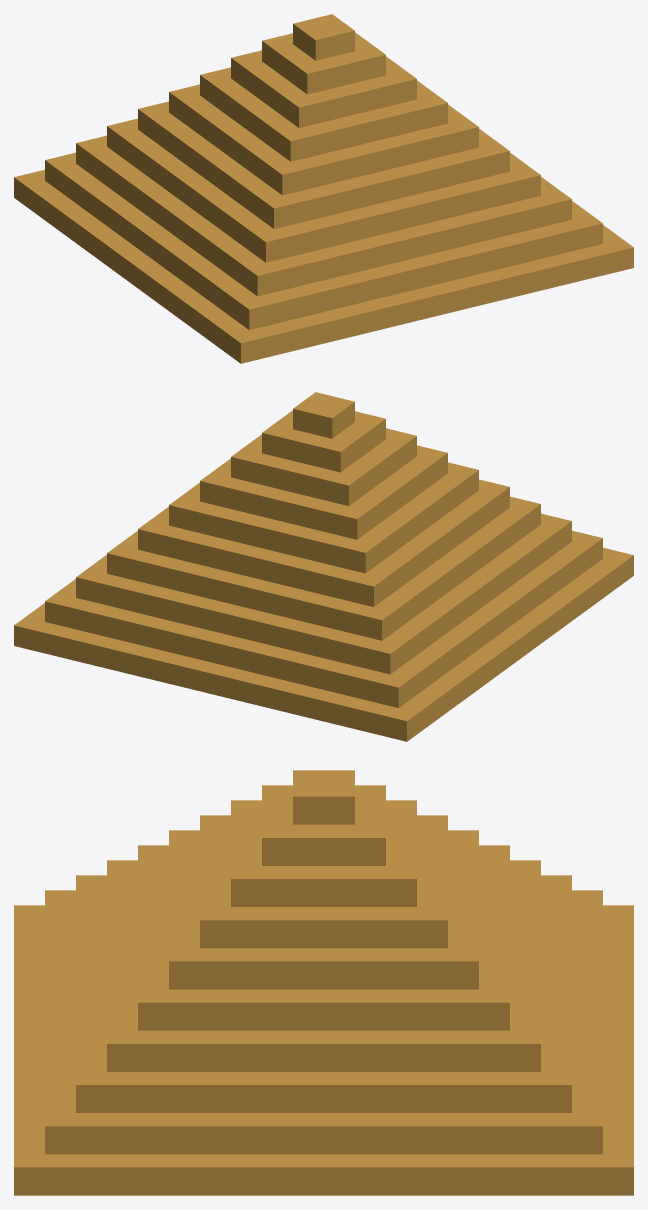
The model's file is pyramidDark.fbx.
3 views of the same model, one above another, from view 1: azimuth 30°, elevation 25°; view 2: azimuth 150°, elevation 25°; view 3: azimuth 270°, elevation 25° (orthographic). The views are drawn at different scales.
Visible parts, largest first — view 1: Cube; view 2: Cube; view 3: Cube.
Part boxes in pixels (x1,y1,x2,y2): Cube: (14,14,633,363); Cube: (14,392,633,741); Cube: (14,770,633,1195).
Size of the model in its own units: 2000 by 1000 by 2000.
